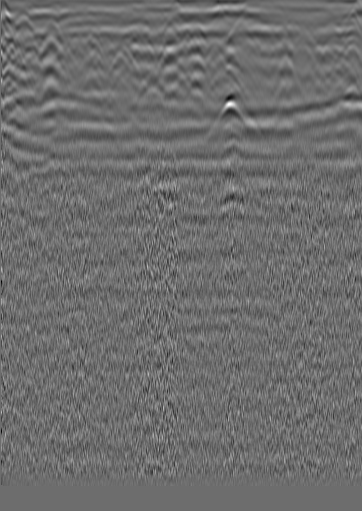가스: (202, 93, 255, 141)
상수: (293, 26, 317, 49)
오수: (33, 18, 71, 51)
우수: (156, 21, 185, 53)
